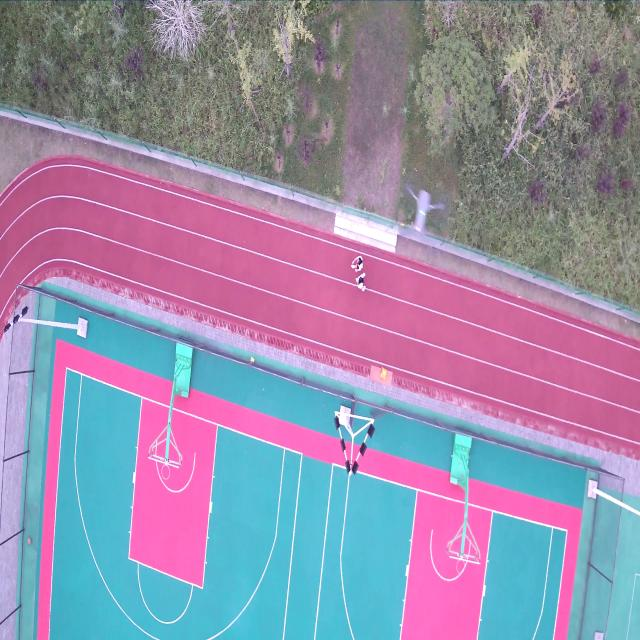UAV: (397, 182, 444, 255)
